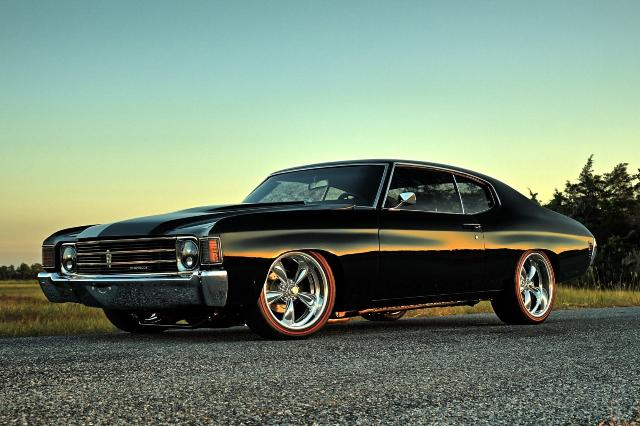chevelle-1972: (38, 159, 598, 340)
